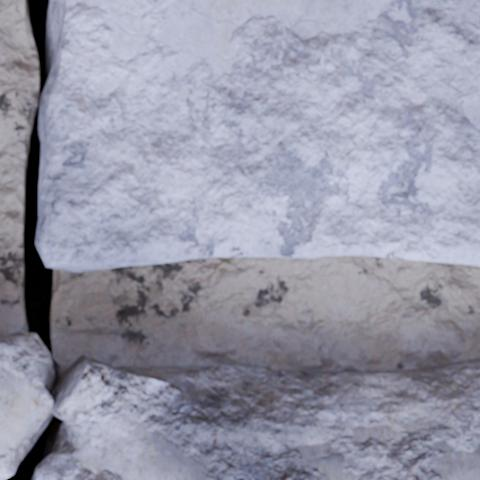brick: (36, 0, 479, 271)
broken_brick: (42, 354, 479, 479), (0, 332, 53, 479)
crack: (1, 0, 74, 479)
